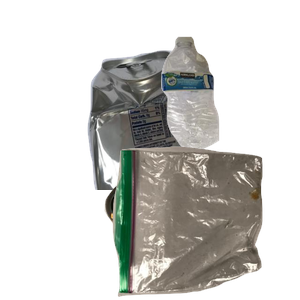glass: (102, 181, 246, 300)
metal: (85, 48, 300, 228)
plastic: (159, 34, 300, 176)
trash: (110, 144, 300, 300)
